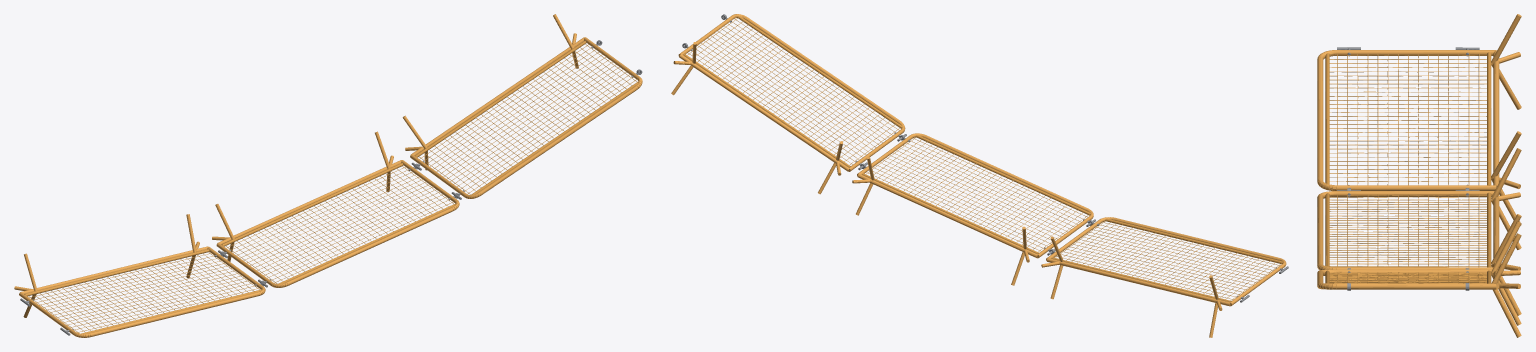
Rendered from count-panel_count-3.glb.
The picture shows the model from 3 angles, left to right: view 1: azimuth 30°, elevation 25°; view 2: azimuth 150°, elevation 25°; view 3: azimuth 270°, elevation 25°; orthographic projection. The views are drawn at different scales.
Visible parts, largest first — view 1: panel_0__infill, panel_0__frame; view 2: panel_0__infill, panel_0__frame; view 3: panel_0__infill, panel_0__frame, panel_0__eye_top.
Part boxes in pixels (x1,y1,x2,y2): panel_0__infill: (24, 41, 638, 333); panel_0__frame: (14, 14, 642, 337); panel_0__infill: (683, 16, 1282, 302); panel_0__frame: (671, 14, 1286, 337); panel_0__infill: (1325, 52, 1491, 283); panel_0__frame: (1317, 14, 1521, 337); panel_0__eye_top: (1337, 47, 1479, 290).
Size of the model in its own units: 6.16 by 1.78 by 1.28.
